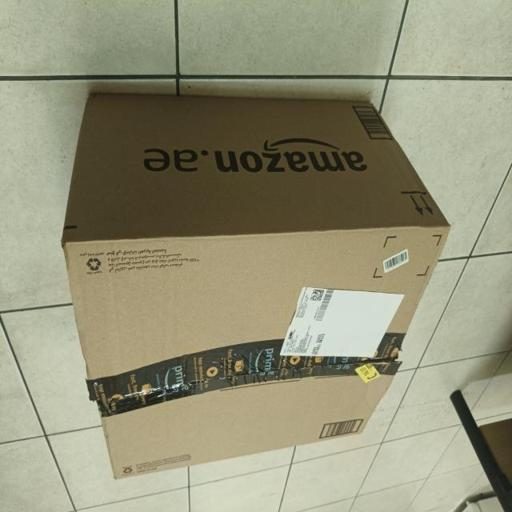Amazon: (66, 87, 454, 483)
